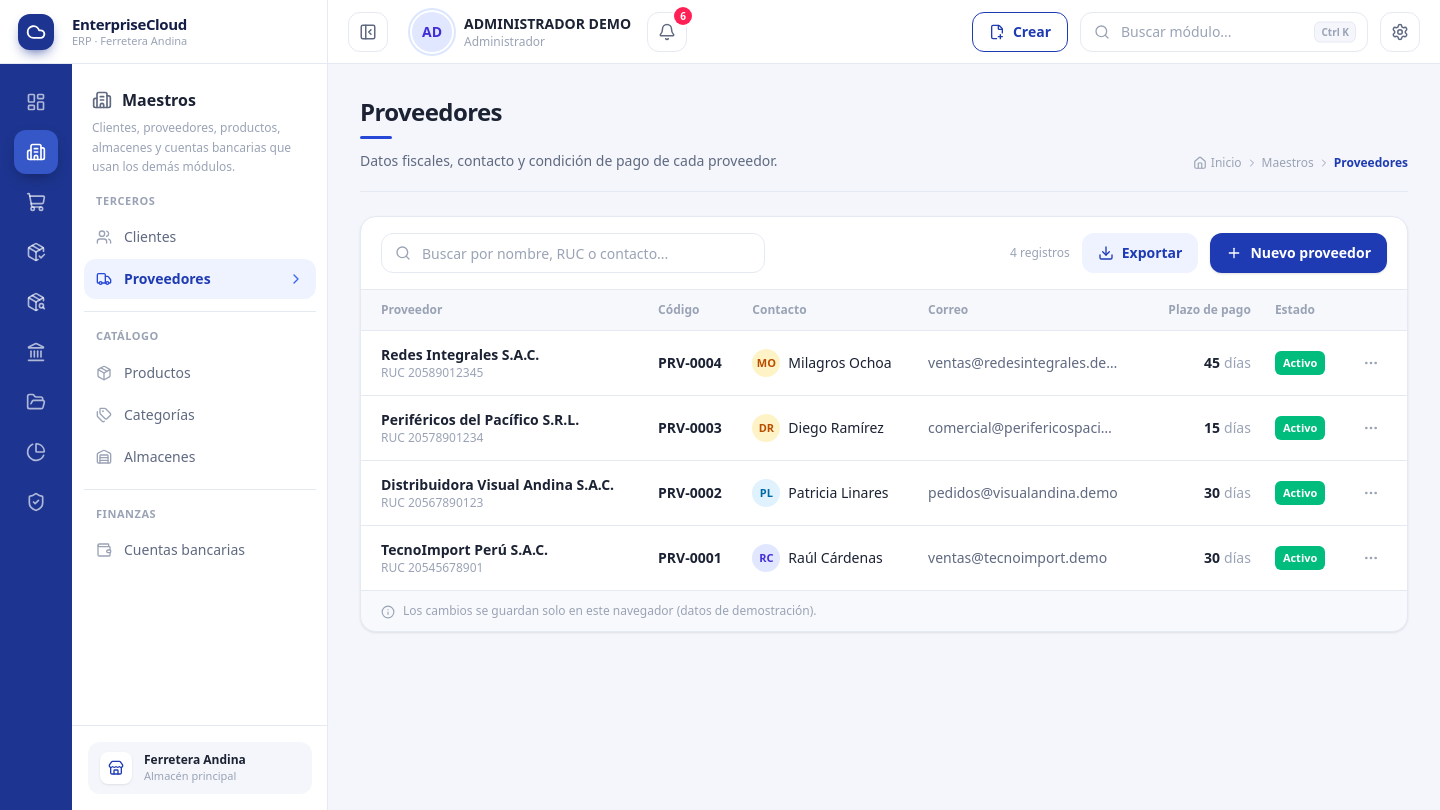
Test case: acciones sobre registros › valida el formulario antes de registrar
Expected: the table named "Proveedores" is shown, left=361, top=289, right=1407, bottom=590
Click the button "Nuevo proveedor" at (1299, 253), box left=1210, top=233, right=1387, bottom=273
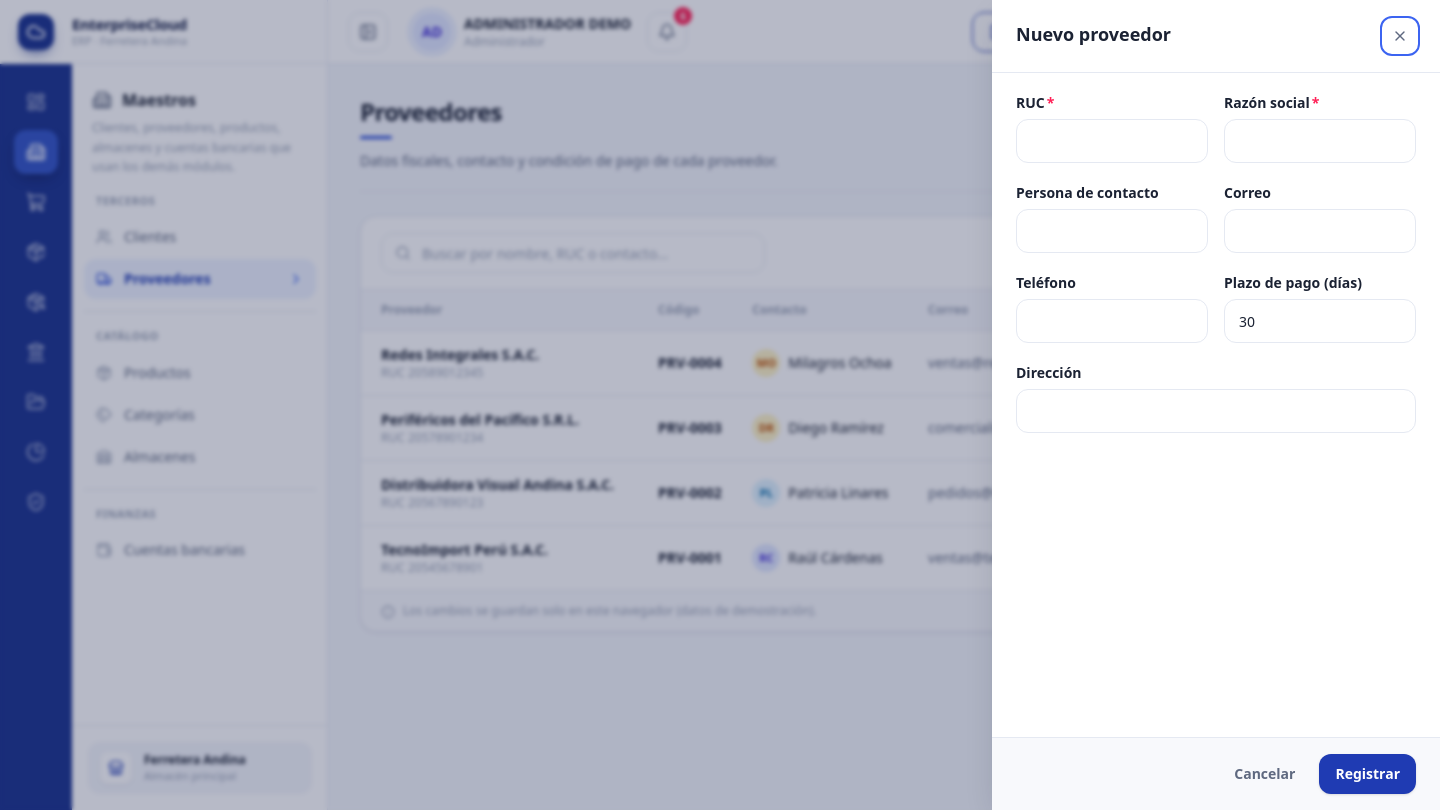
Type "123" into the field labelled "RUC*" at (1112, 141), box left=1016, top=119, right=1208, bottom=163
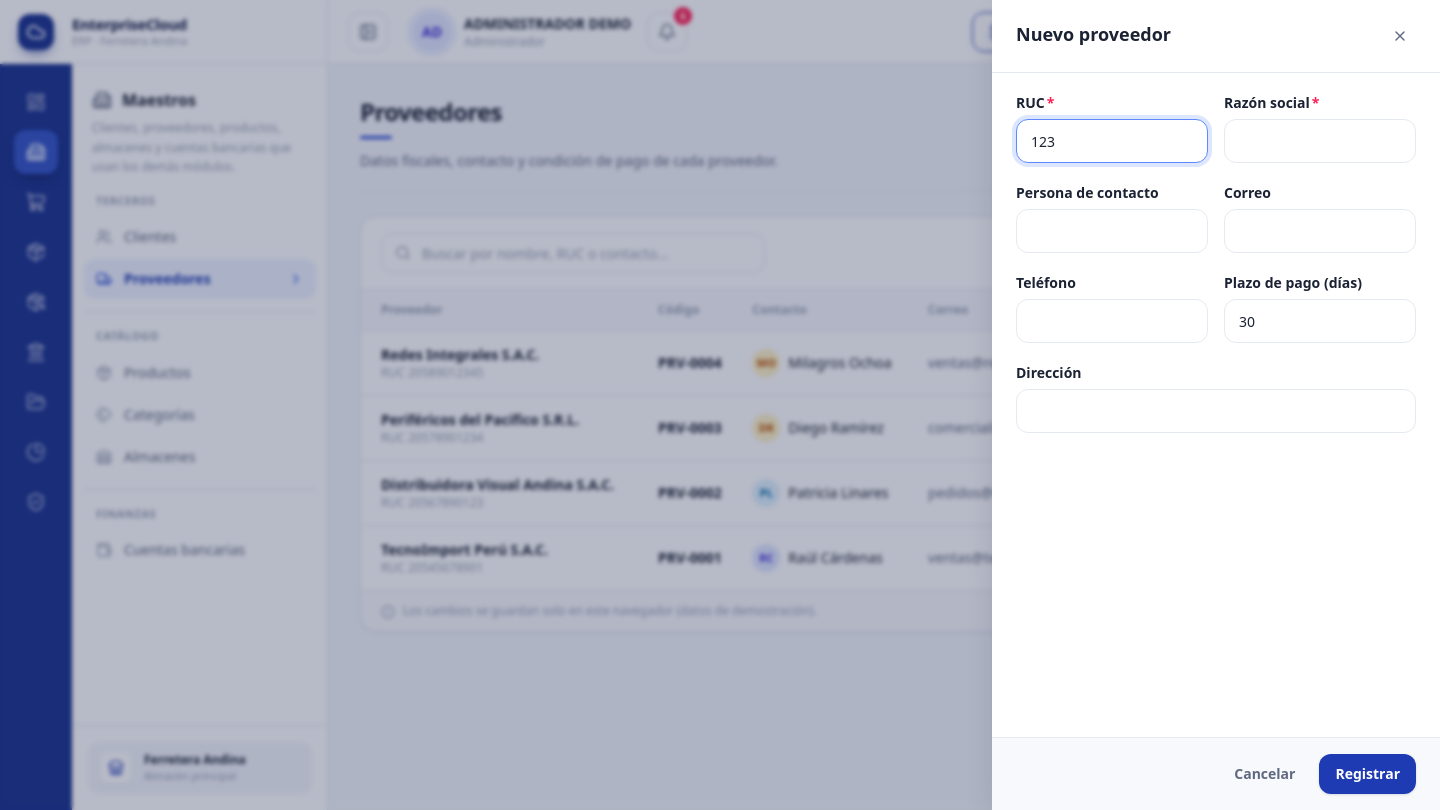
Click the button "Registrar" at (1368, 774), box left=1319, top=754, right=1416, bottom=794
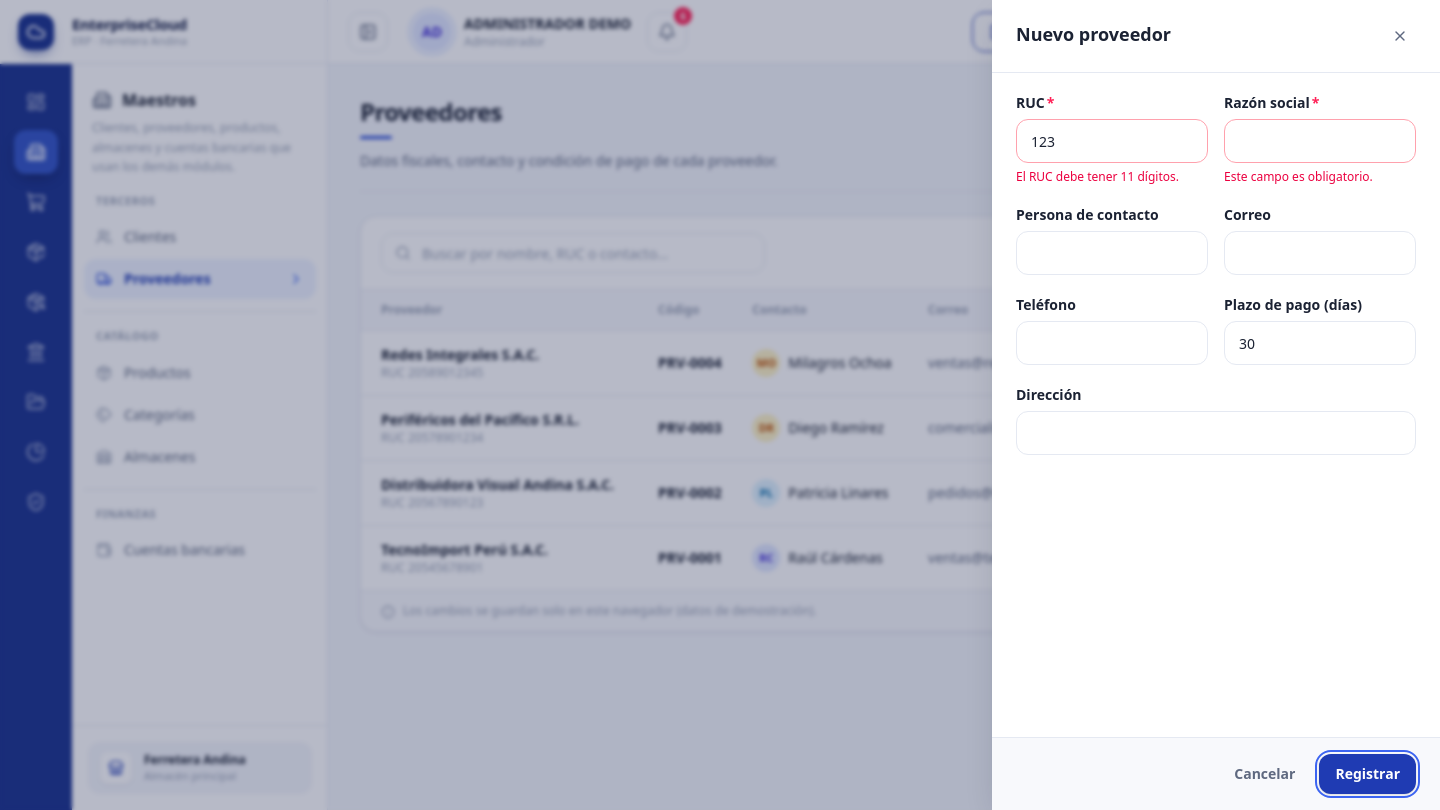
Now the text "Este campo es obligatorio." is shown, box left=1224, top=168, right=1373, bottom=185
Now the text "El RUC debe tener 11 dígitos." is shown, box left=1016, top=168, right=1179, bottom=185
